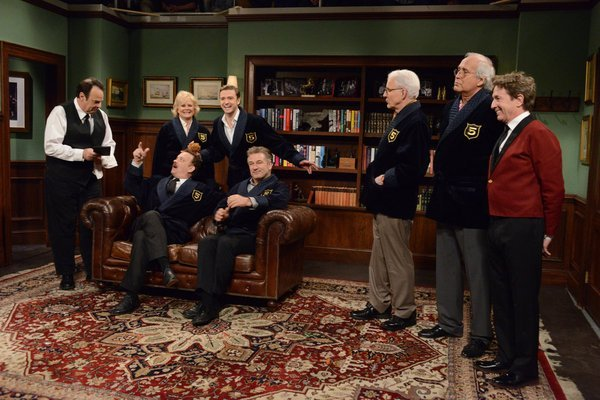16: (166, 146, 193, 176)
27: (379, 72, 404, 111)
37: (448, 52, 480, 95)
42: (215, 86, 238, 116)
52: (485, 78, 517, 126), (79, 84, 106, 116)
57: (243, 149, 270, 181)
63: (175, 95, 195, 119)
Coat: (426, 89, 512, 234), (351, 98, 435, 221), (118, 157, 227, 250), (208, 109, 308, 178), (143, 114, 223, 189), (210, 172, 293, 241)
Female: (175, 95, 195, 119)
Glasses: (453, 66, 493, 81), (378, 85, 413, 97)
Jacket: (477, 116, 571, 240)
Male: (485, 78, 517, 126), (448, 52, 480, 95), (379, 72, 404, 111), (243, 149, 270, 181), (79, 84, 106, 116), (166, 146, 193, 176), (215, 86, 238, 116)
Pants: (34, 159, 119, 273), (492, 209, 546, 378), (428, 219, 496, 347), (116, 205, 195, 293), (365, 209, 422, 323), (192, 224, 261, 304)
Shirt: (38, 95, 118, 181), (498, 108, 535, 155), (217, 107, 241, 148)
Shoes: (176, 295, 222, 328), (487, 366, 543, 390), (103, 293, 144, 319), (346, 299, 394, 321), (412, 322, 463, 341), (378, 311, 420, 331), (470, 354, 521, 370), (458, 338, 490, 359), (155, 269, 184, 292), (57, 269, 78, 295), (85, 265, 98, 283)
Socks: (142, 255, 176, 275), (190, 294, 227, 310), (119, 286, 144, 303)
Tie: (159, 174, 190, 204), (492, 122, 515, 162), (77, 110, 96, 143)
Waistcoat: (45, 95, 115, 192)
